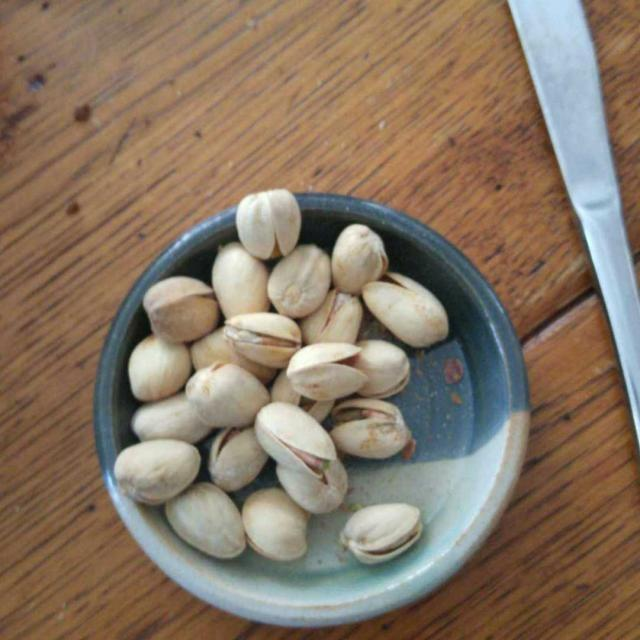pistachio: (86, 181, 457, 578)
